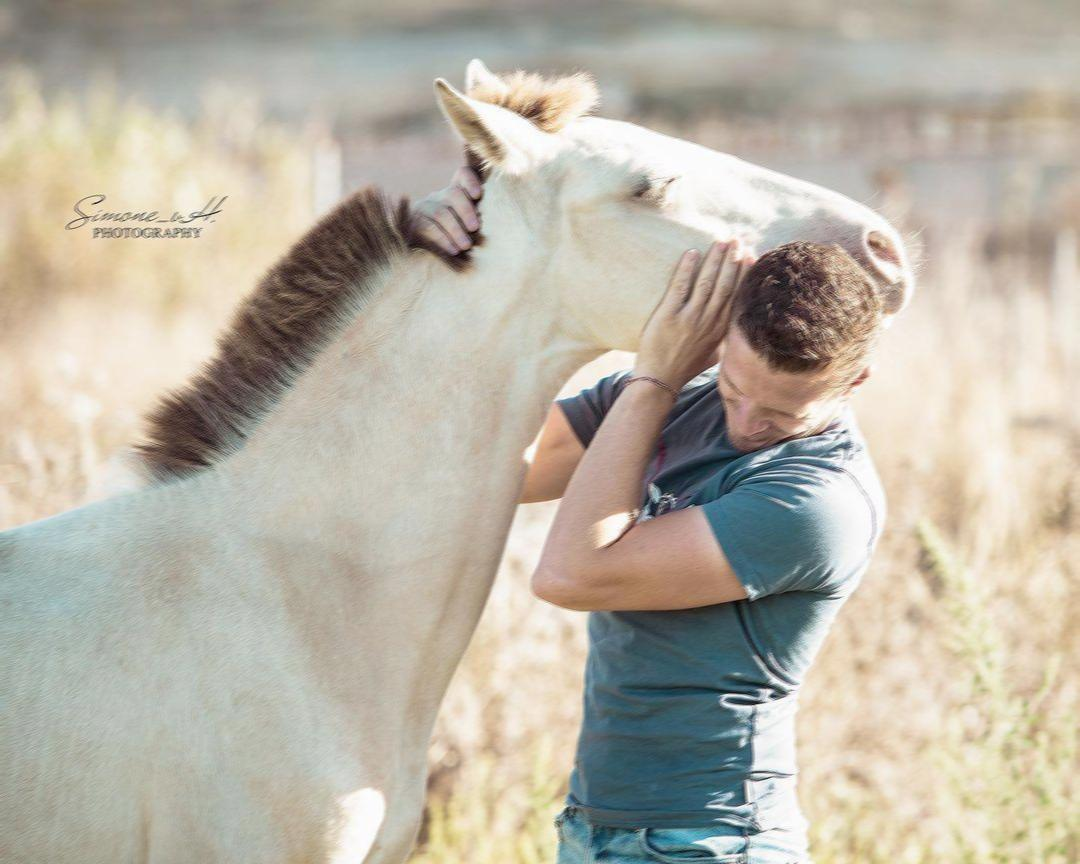horse: (0, 56, 917, 862)
